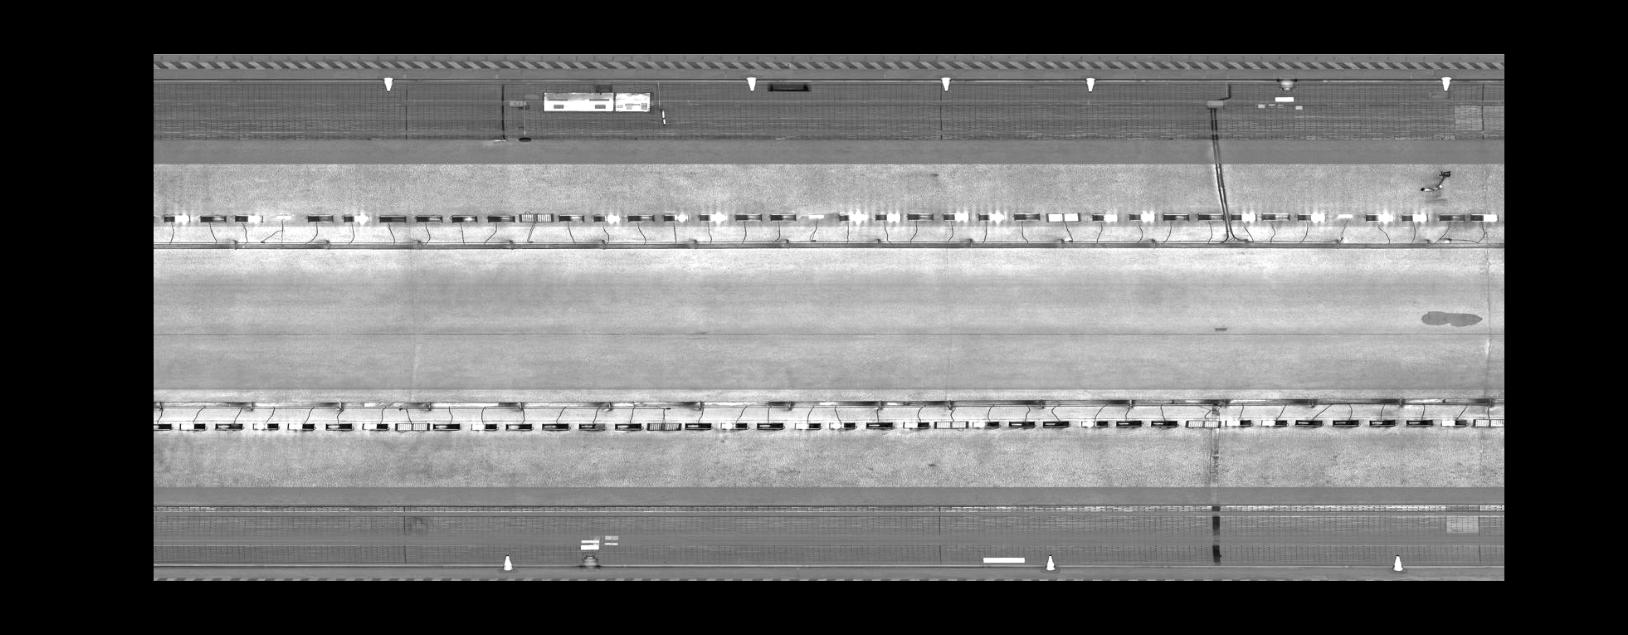light: (1182, 415, 1223, 430), (1043, 209, 1082, 224), (517, 210, 555, 224), (835, 208, 868, 224), (974, 208, 1006, 224), (643, 419, 685, 432), (394, 419, 432, 433), (1090, 209, 1123, 224), (1470, 414, 1503, 430), (230, 210, 266, 224), (1127, 209, 1159, 224), (161, 210, 192, 225), (1363, 210, 1396, 224), (1226, 208, 1259, 222), (575, 419, 608, 434), (931, 418, 970, 431), (483, 211, 518, 224), (357, 419, 392, 433), (1010, 209, 1042, 223), (904, 209, 937, 223), (872, 210, 904, 224), (447, 211, 482, 224), (375, 211, 409, 224), (211, 419, 245, 433), (696, 210, 727, 224), (411, 211, 444, 224), (340, 211, 373, 224), (304, 211, 337, 224), (468, 419, 501, 433), (430, 419, 463, 433), (174, 419, 208, 433), (1437, 415, 1472, 427), (557, 210, 587, 224), (767, 210, 799, 223), (732, 210, 764, 223), (590, 211, 622, 224), (539, 419, 571, 433), (1467, 211, 1501, 223), (1293, 210, 1327, 222), (323, 419, 354, 433), (1436, 211, 1469, 223), (1398, 211, 1431, 223), (1259, 209, 1293, 221), (1292, 416, 1325, 429), (898, 417, 931, 430), (863, 418, 896, 431), (249, 419, 282, 432), (661, 210, 691, 223), (504, 419, 534, 433), (1328, 416, 1363, 427), (1160, 210, 1192, 222), (624, 211, 656, 223), (196, 212, 228, 224), (825, 418, 858, 431), (284, 419, 317, 432), (941, 210, 970, 223), (1403, 416, 1437, 427), (1146, 417, 1181, 429), (1111, 417, 1145, 429), (1077, 417, 1111, 429), (716, 419, 751, 431), (1257, 416, 1288, 429), (1193, 211, 1226, 222), (1038, 417, 1071, 429), (791, 419, 824, 431), (753, 419, 786, 431), (682, 419, 714, 431), (1366, 416, 1398, 427), (1223, 416, 1254, 427), (609, 420, 644, 431), (1005, 418, 1037, 429), (970, 418, 1001, 429), (153, 419, 173, 430), (272, 212, 294, 221), (805, 212, 826, 220), (1335, 210, 1357, 217)
